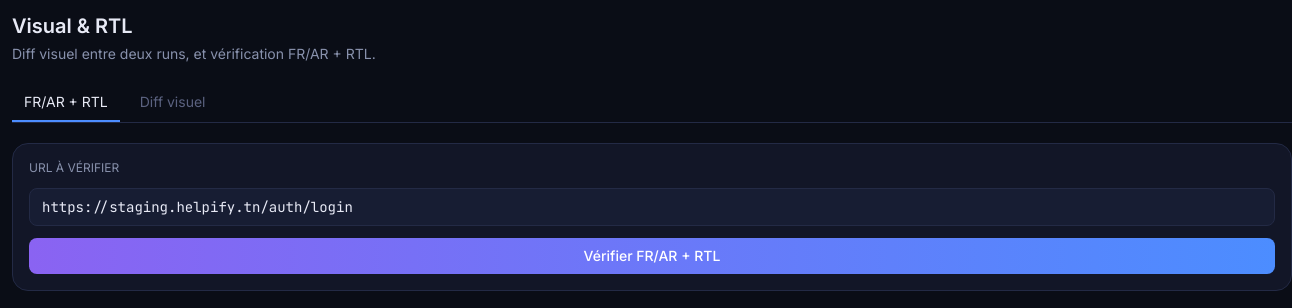
Test case: Visual/RTL : onglet diff visuel › erreur de chargement des runs et de comparaison
Click the button "Diff visuel" at (173, 103), box 128,84 -> 218,122
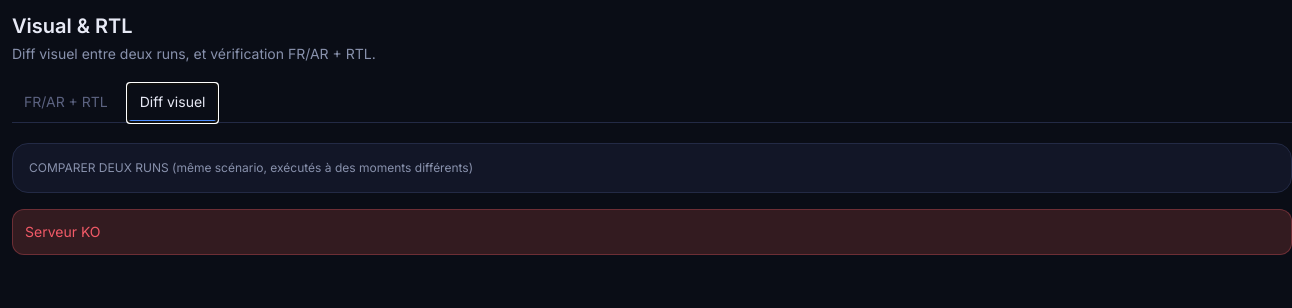
Check: the text "Serveur KO" is shown, box 12,209 -> 1291,255
